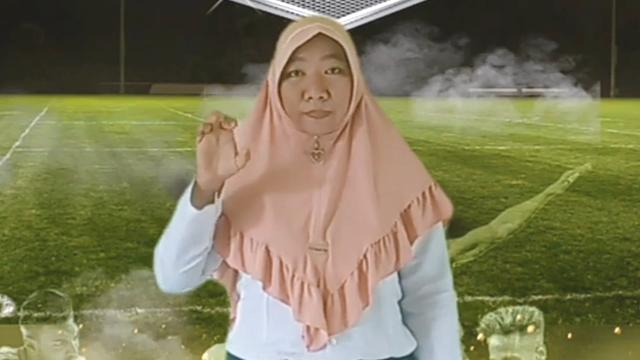E: (194, 110, 252, 184)
